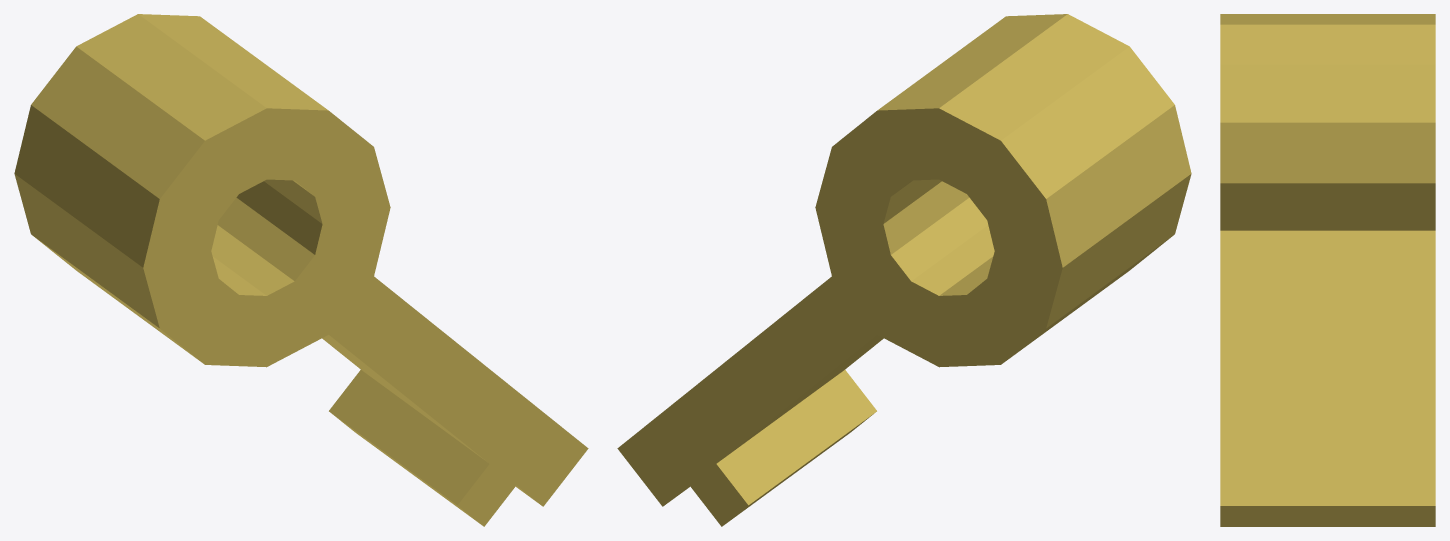
File: Key.fbx
3 renders of one model, left to right at view 1: azimuth 30°, elevation 25°; view 2: azimuth 150°, elevation 25°; view 3: azimuth 270°, elevation 25°, orthographic. The views are drawn at different scales.
Visible parts, largest first — view 1: Key; view 2: Key; view 3: Key.
Part boxes in pixels (box(x1,y1,x2,y2)): Key: box(14, 14, 588, 526); Key: box(617, 14, 1191, 526); Key: box(1220, 14, 1435, 526).
Bounding box in the file's own units: 32.4 × 32.8 × 16.24.
